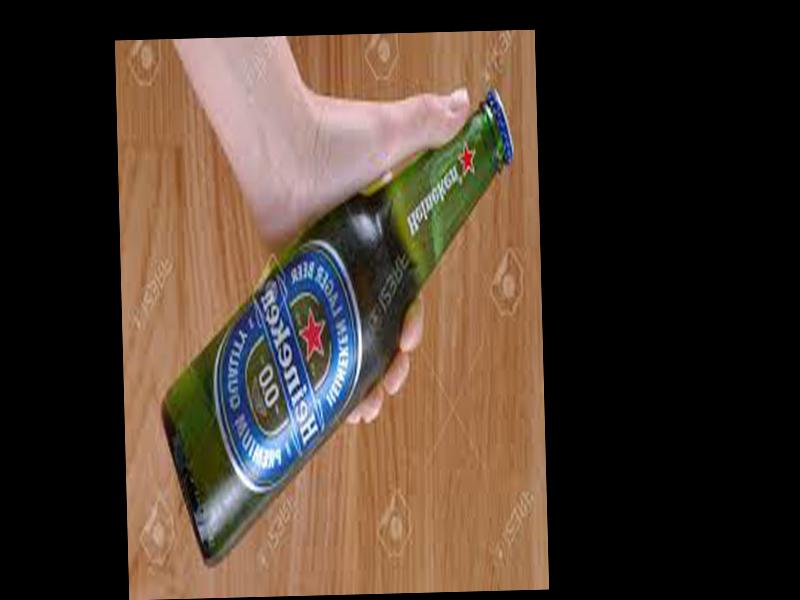Beer: (151, 91, 525, 565)
